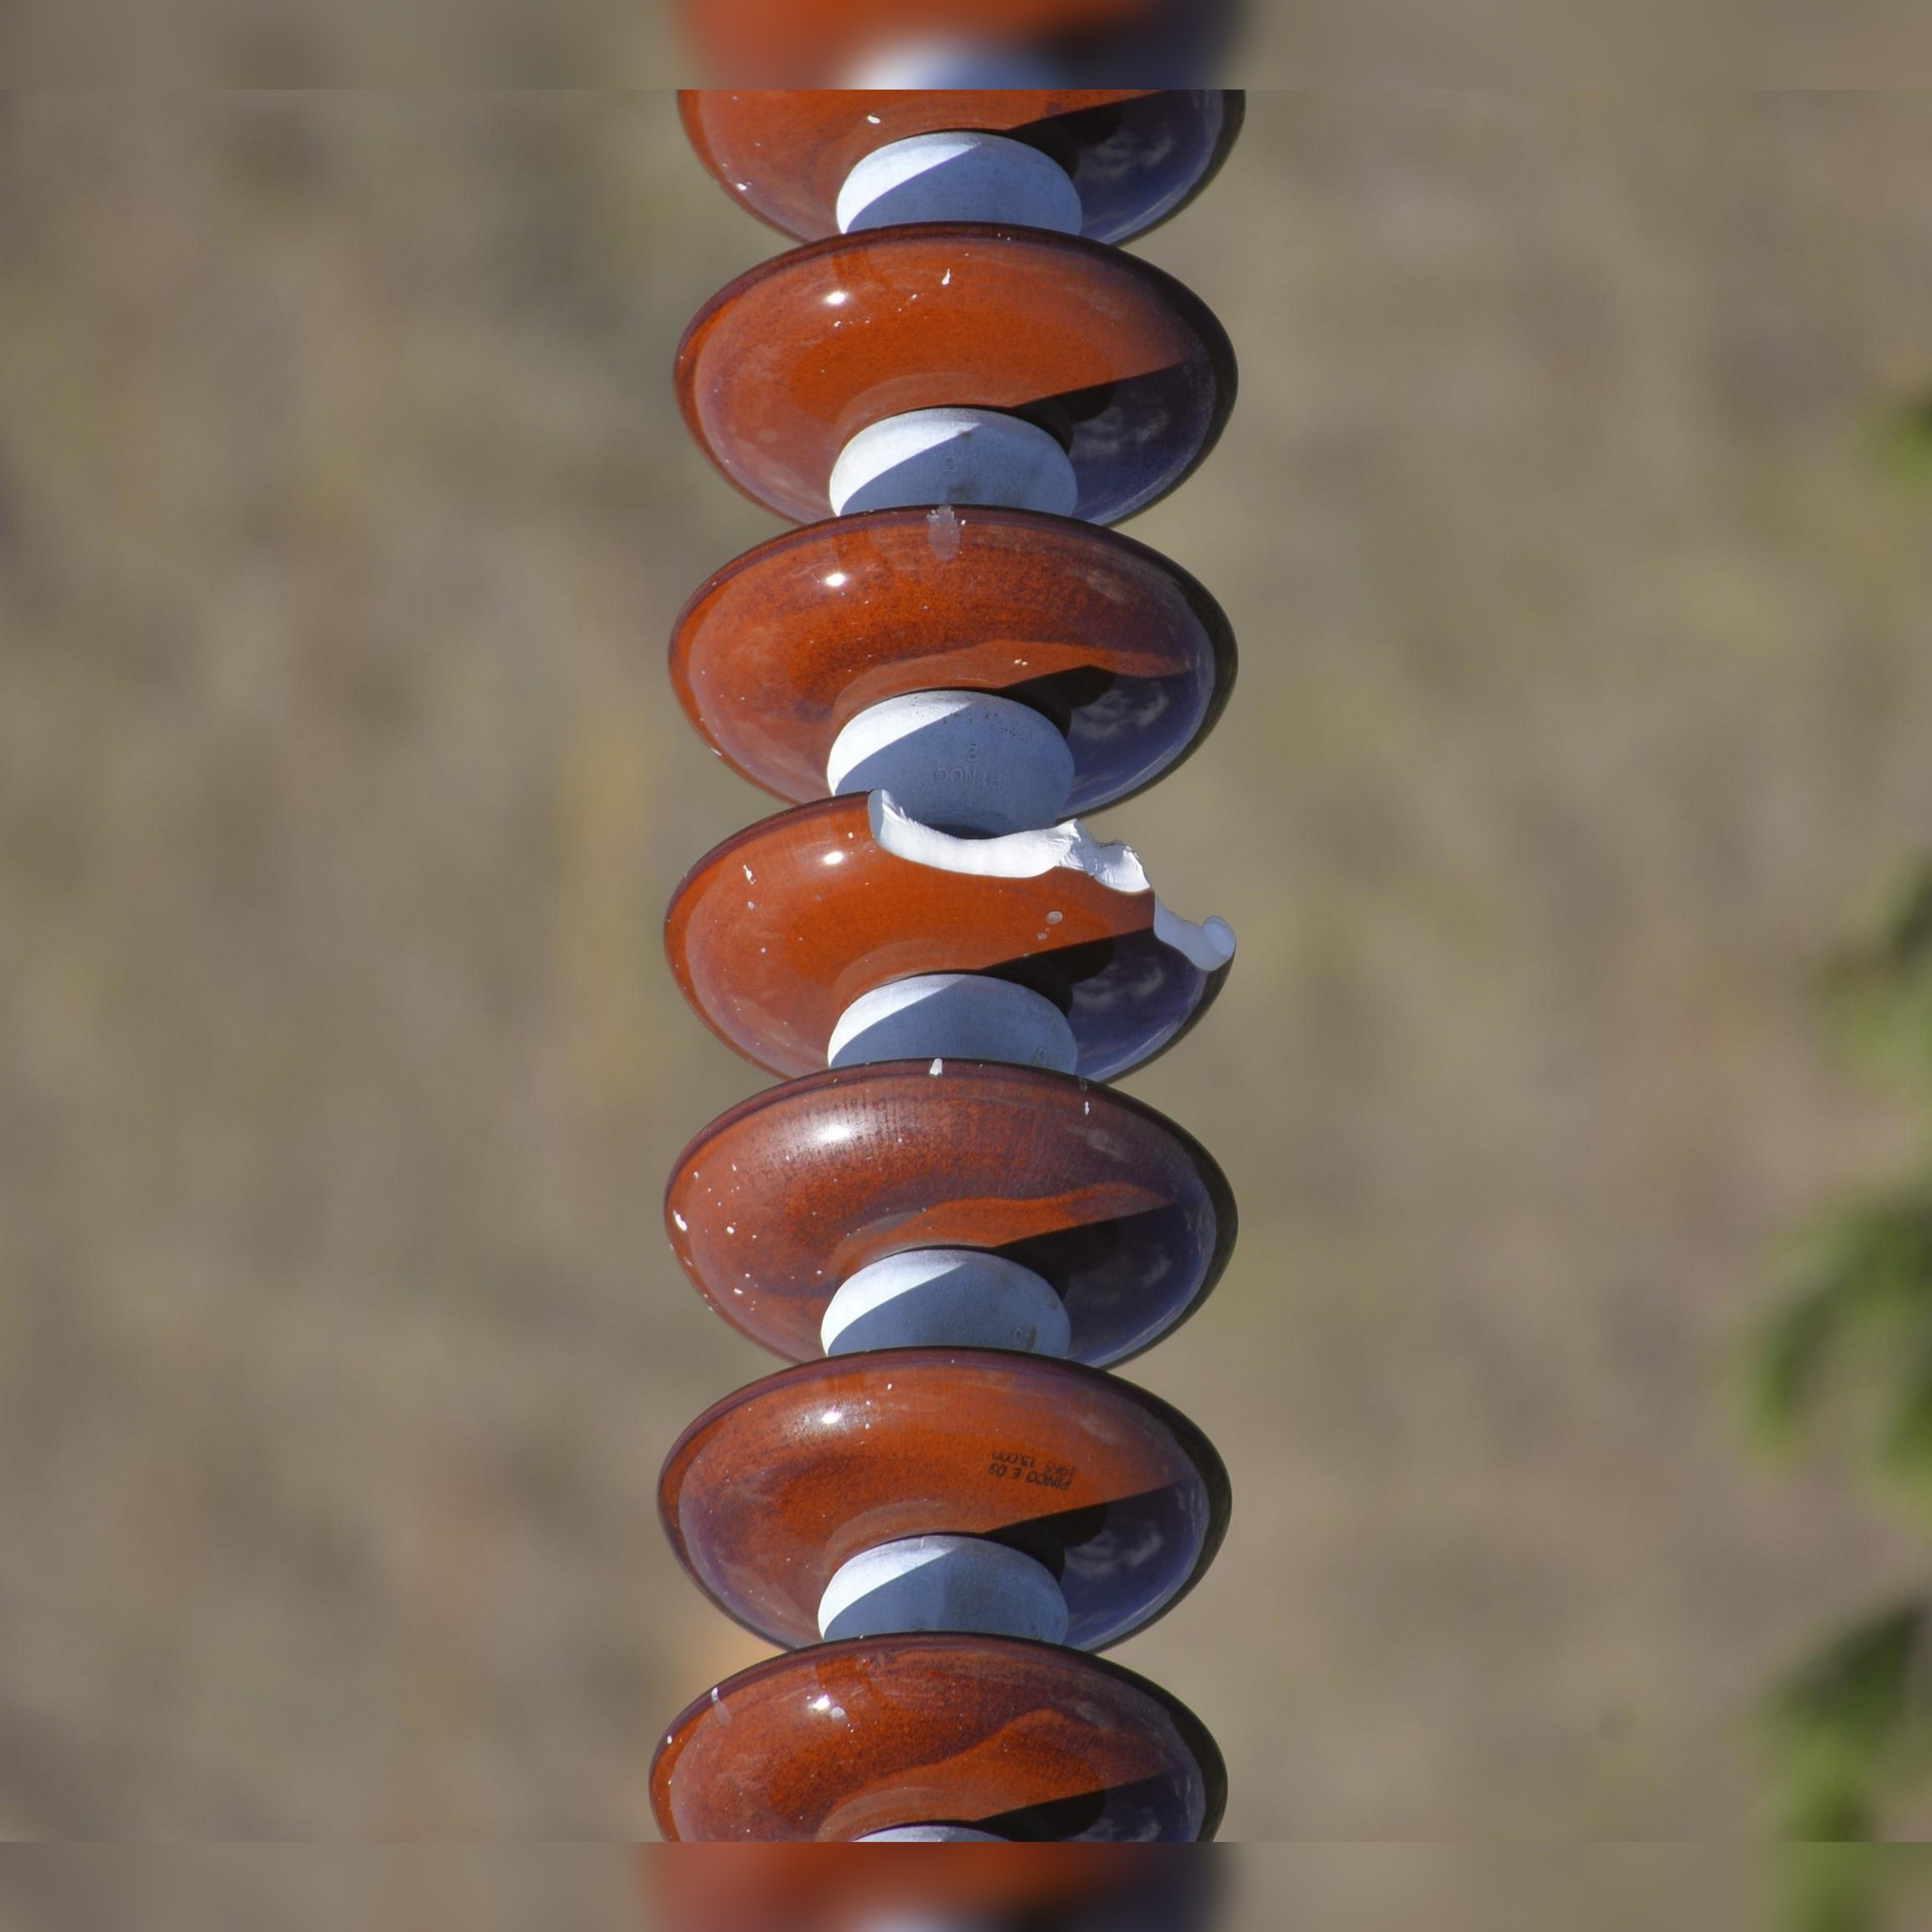insulator breakage: (660, 750, 1263, 1076)
